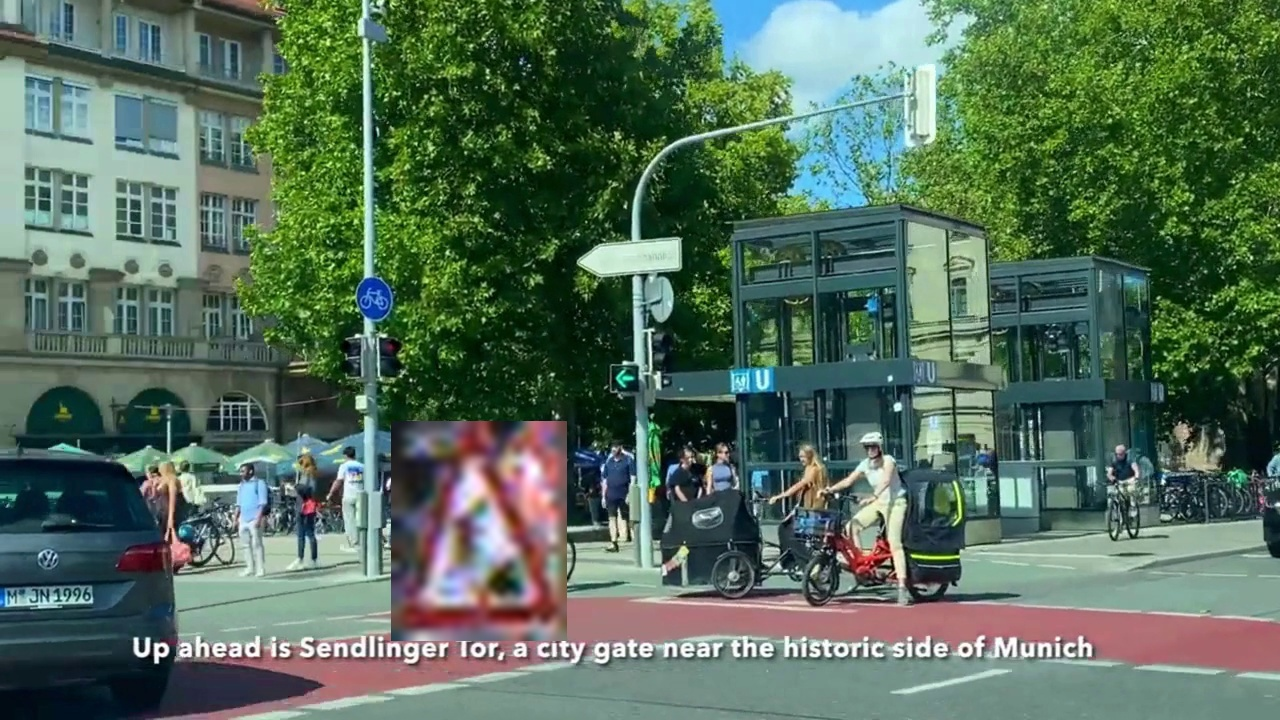Road work: (391, 421, 567, 641)
